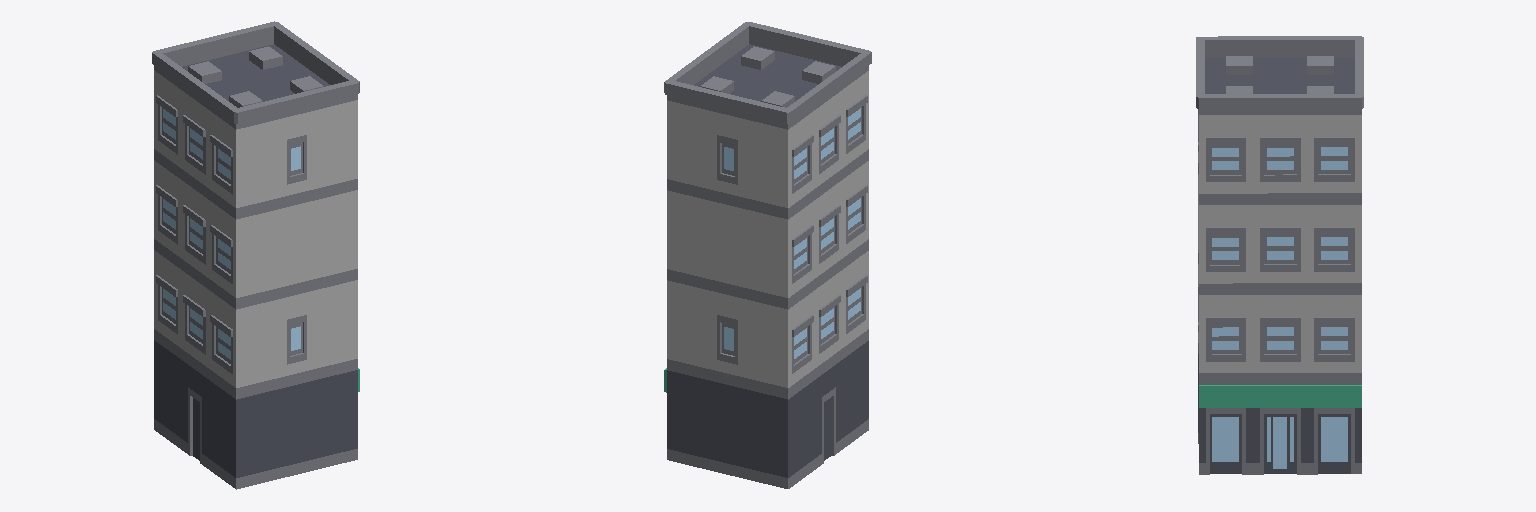
The model's file is buildingG1.obj.
3 renders of one model, left to right at view 1: azimuth 30°, elevation 25°; view 2: azimuth 150°, elevation 25°; view 3: azimuth 270°, elevation 25°, orthographic.
Visible parts, largest first — view 1: large_buildingD; view 2: large_buildingD; view 3: large_buildingD.
Boxes of the visible parts, x1,y1,x2,y2 form: large_buildingD: [152, 21, 359, 489]; large_buildingD: [664, 22, 871, 488]; large_buildingD: [1196, 36, 1363, 474].
Size of the model in its own units: 0.8186 by 2.34 by 0.9489.